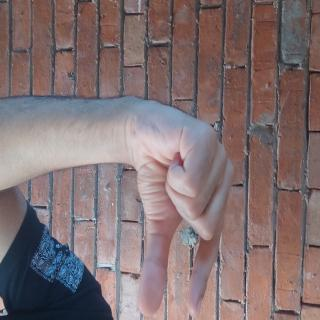DELL: (68, 108, 240, 274)
